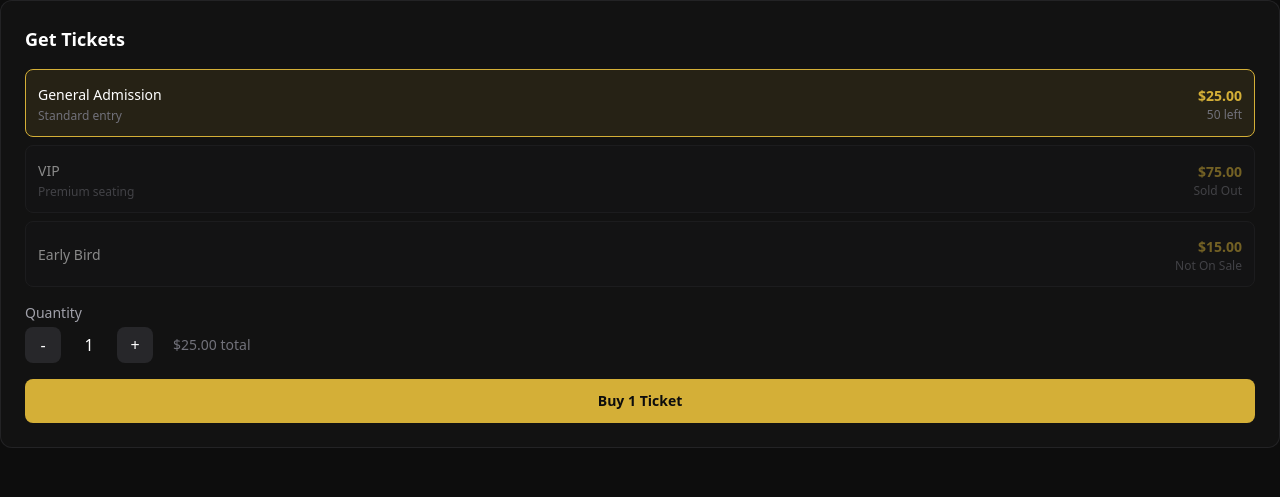
Test case: TicketPurchaseWidget › shows error on network failure during purchase
Click the button "Buy 1 Ticket".
click(640, 401)  # box [25,379,1255,423]
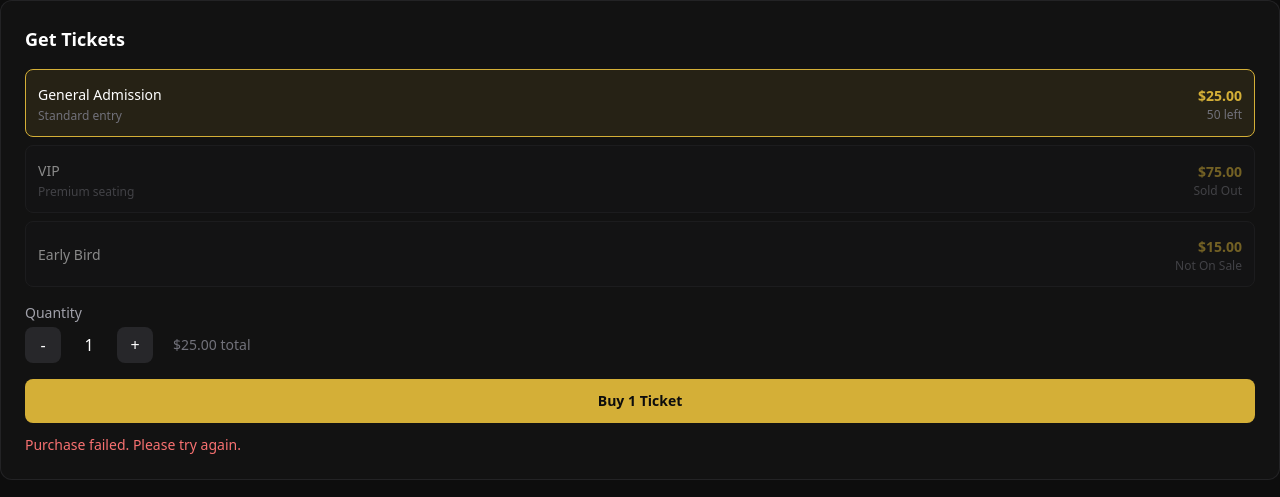
Now the text "Purchase failed. Please try again." is shown, box [25,435,241,454]
